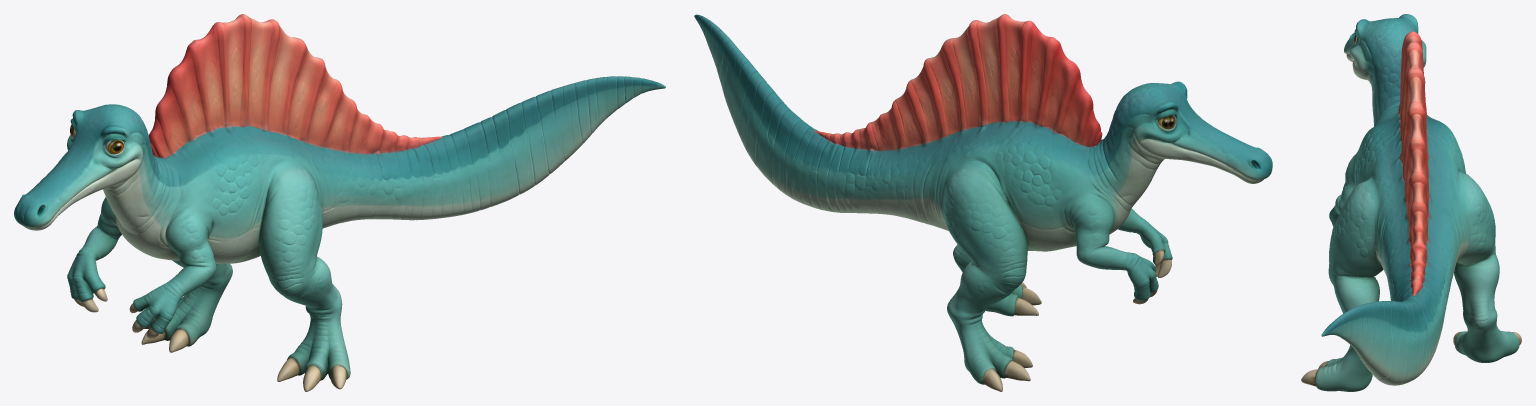
File: spinosaurus-tripo.glb
3 renders of one model, left to right at view 1: azimuth 30°, elevation 25°; view 2: azimuth 150°, elevation 25°; view 3: azimuth 270°, elevation 25°, orthographic. The views are drawn at different scales.
Parts seen in each view (by area): view 1: tripo_part_0, tripo_part_2, tripo_part_1, tripo_part_4, tripo_part_5, tripo_part_7, tripo_part_3, tripo_part_6; view 2: tripo_part_2, tripo_part_0, tripo_part_1, tripo_part_3, tripo_part_5, tripo_part_6, tripo_part_7, tripo_part_4; view 3: tripo_part_0, tripo_part_1, tripo_part_4, tripo_part_3, tripo_part_2, tripo_part_5, tripo_part_7.
Boxes of the visible parts, x1=… form: tripo_part_0: x1=304, y1=76, x2=665, y2=228; tripo_part_2: x1=149, y1=14, x2=440, y2=158; tripo_part_1: x1=103, y1=112, x2=325, y2=263; tripo_part_4: x1=258, y1=161, x2=350, y2=391; tripo_part_5: x1=14, y1=104, x2=146, y2=230; tripo_part_7: x1=129, y1=216, x2=216, y2=338; tripo_part_3: x1=141, y1=260, x2=232, y2=352; tripo_part_6: x1=67, y1=197, x2=121, y2=312; tripo_part_2: x1=816, y1=14, x2=1102, y2=150; tripo_part_0: x1=694, y1=14, x2=941, y2=224; tripo_part_1: x1=923, y1=93, x2=1161, y2=251; tripo_part_3: x1=939, y1=156, x2=1032, y2=391; tripo_part_5: x1=1119, y1=81, x2=1272, y2=183; tripo_part_6: x1=1064, y1=195, x2=1158, y2=304; tripo_part_7: x1=1118, y1=208, x2=1172, y2=277; tripo_part_4: x1=953, y1=244, x2=1041, y2=316; tripo_part_0: x1=1321, y1=199, x2=1457, y2=385; tripo_part_1: x1=1353, y1=41, x2=1466, y2=262; tripo_part_4: x1=1301, y1=178, x2=1383, y2=391; tripo_part_3: x1=1453, y1=171, x2=1521, y2=362; tripo_part_2: x1=1397, y1=31, x2=1430, y2=294; tripo_part_5: x1=1344, y1=14, x2=1426, y2=83; tripo_part_7: x1=1329, y1=154, x2=1355, y2=226.
Bounding box in the file's own units: 0.9804 × 0.5143 × 0.3166.
Materials: 1 (1 with a texture image).
